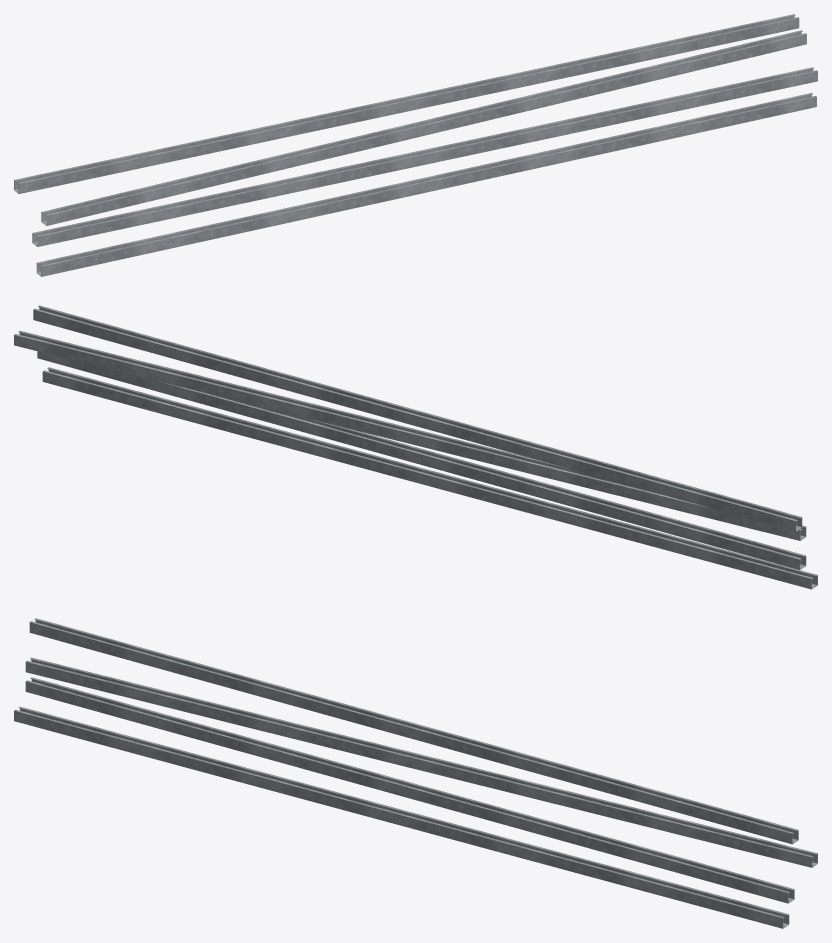
Rendered from ELE-ELD-006_anim.glb.
3 renders of one model, top to bottom at view 1: azimuth 30°, elevation 25°; view 2: azimuth 150°, elevation 25°; view 3: azimuth 330°, elevation 25°, orthographic. The views are drawn at different scales.
Visible parts, largest first — view 1: ELE-ELD-006_anim1, ELE-ELD-006_anim3, ELE-ELD-006_anim0, ELE-ELD-006_anim2; view 2: ELE-ELD-006_anim0, ELE-ELD-006_anim3, ELE-ELD-006_anim2, ELE-ELD-006_anim1; view 3: ELE-ELD-006_anim2, ELE-ELD-006_anim0, ELE-ELD-006_anim1, ELE-ELD-006_anim3.
Part boxes in pixels (x1,y1,x2,y2): ELE-ELD-006_anim1: (32, 67, 817, 246); ELE-ELD-006_anim3: (14, 14, 799, 193); ELE-ELD-006_anim0: (36, 93, 816, 276); ELE-ELD-006_anim2: (41, 30, 806, 225); ELE-ELD-006_anim0: (42, 367, 817, 589); ELE-ELD-006_anim3: (33, 305, 802, 531); ELE-ELD-006_anim2: (14, 331, 806, 540); ELE-ELD-006_anim1: (37, 351, 806, 569); ELE-ELD-006_anim2: (25, 657, 817, 867); ELE-ELD-006_anim0: (14, 706, 789, 928); ELE-ELD-006_anim1: (25, 677, 794, 903); ELE-ELD-006_anim3: (29, 618, 798, 844).
Bounding box in the file's own units: 3.05 × 0.3033 × 0.3023.
2 materials, 1 textured.
